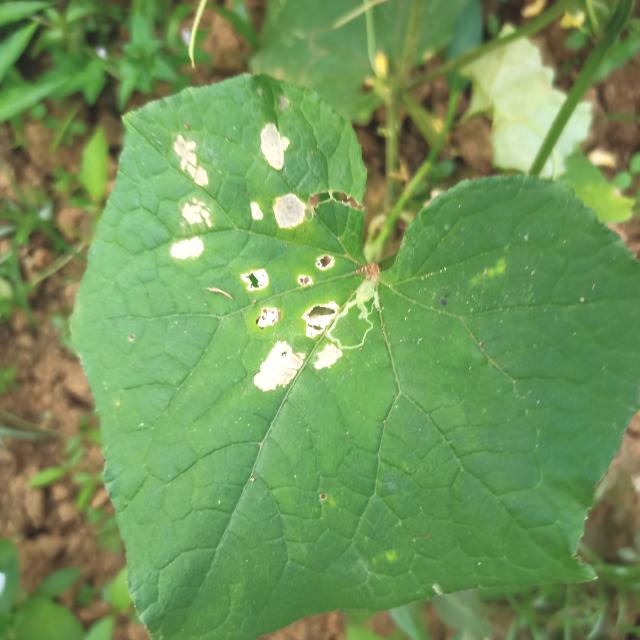disease_cucumber: (245, 124, 342, 391), (173, 133, 208, 263)
